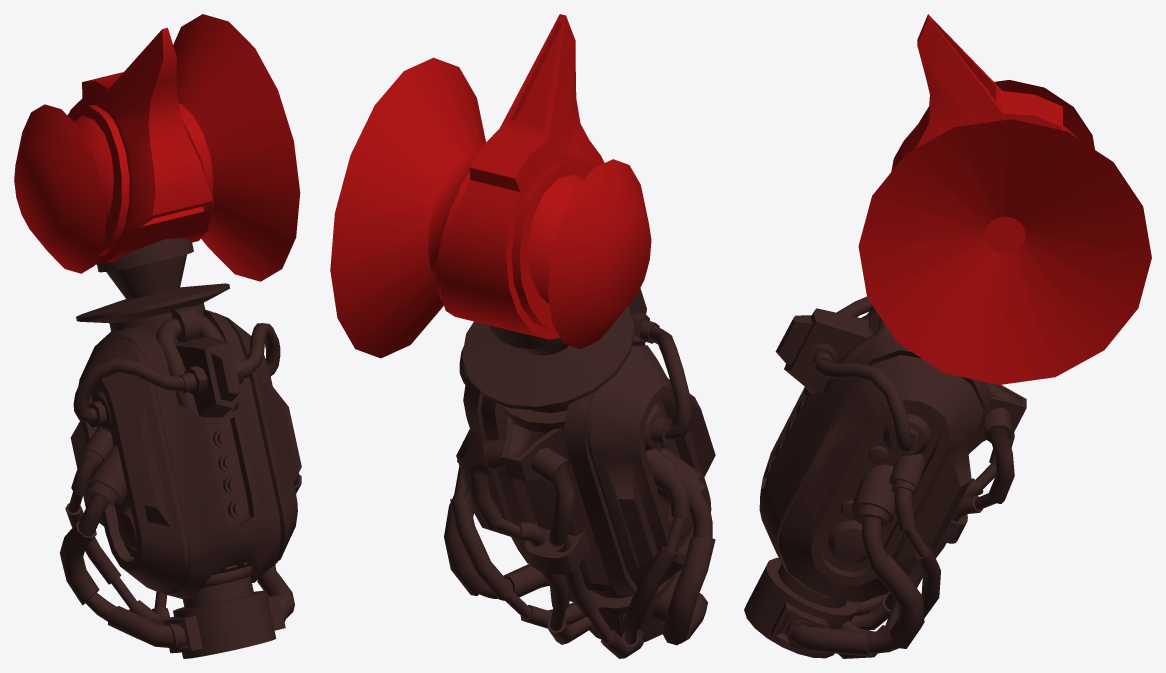
The model's file is M_Companion_RightArm.FBX.
3 renders of one model, left to right at view 1: azimuth 30°, elevation 25°; view 2: azimuth 150°, elevation 25°; view 3: azimuth 270°, elevation 25°, orthographic. The views are drawn at different scales.
Parts seen in each view (by area): view 1: Companion_RightArm; view 2: Companion_RightArm; view 3: Companion_RightArm.
Part boxes in pixels (box(x1,y1,x2,y2)): Companion_RightArm: box(14, 14, 301, 658); Companion_RightArm: box(330, 14, 715, 658); Companion_RightArm: box(744, 14, 1151, 658).
Size of the model in its own units: 14.56 by 35.82 by 20.91.
